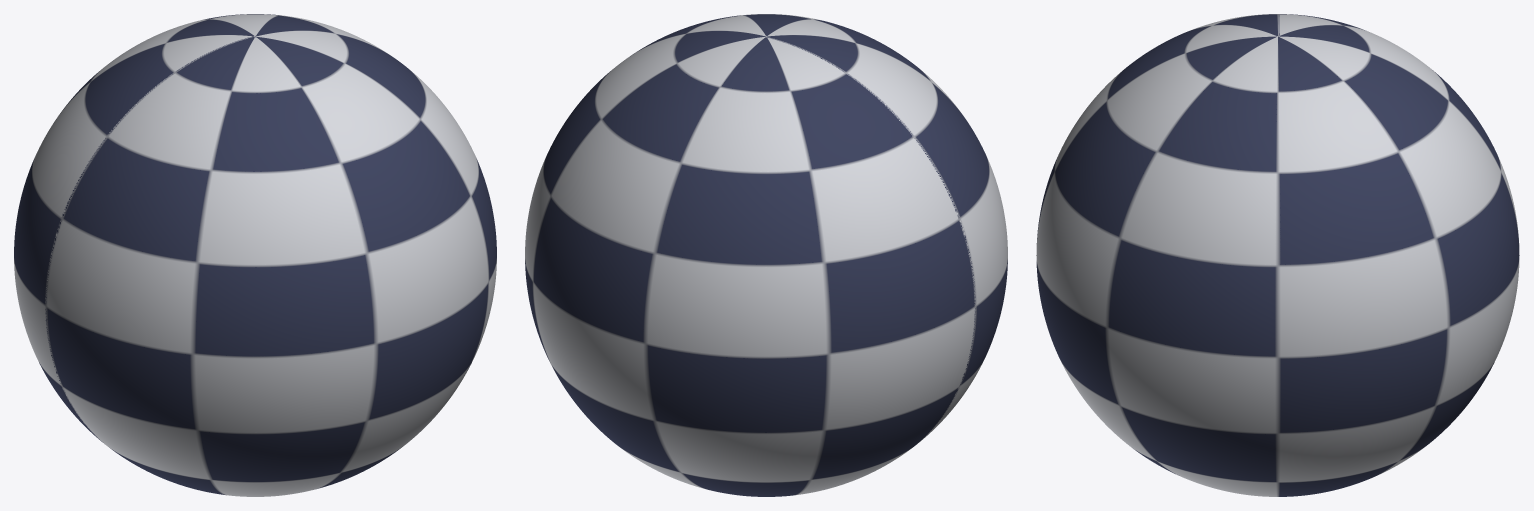
The model's file is IcoSphereDense.glb.
3 views of the same model, side by side, from view 1: azimuth 30°, elevation 25°; view 2: azimuth 150°, elevation 25°; view 3: azimuth 270°, elevation 25° (orthographic).
Bounding box in the file's own units: 2 × 2 × 2.
Materials: 1 (1 with a texture image).
